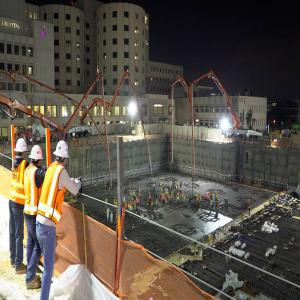white: (55, 141, 70, 168), (30, 145, 44, 169), (16, 140, 29, 160)
